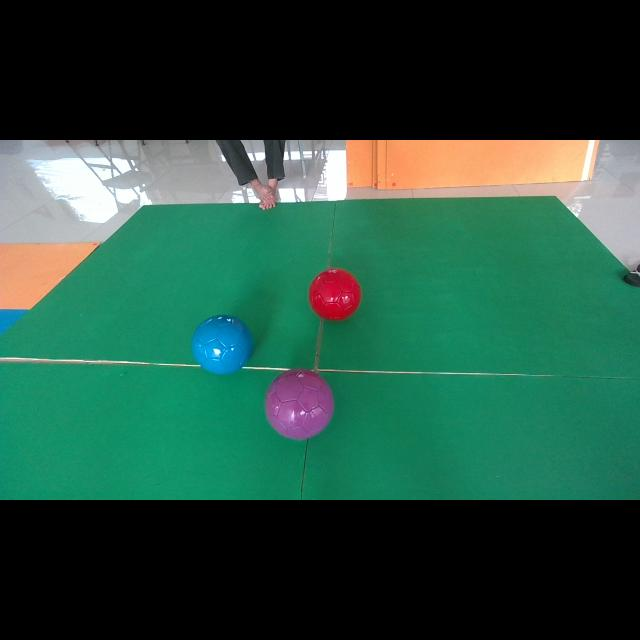B: (191, 315, 254, 374)
P: (265, 369, 334, 439)
R: (309, 268, 361, 319)
